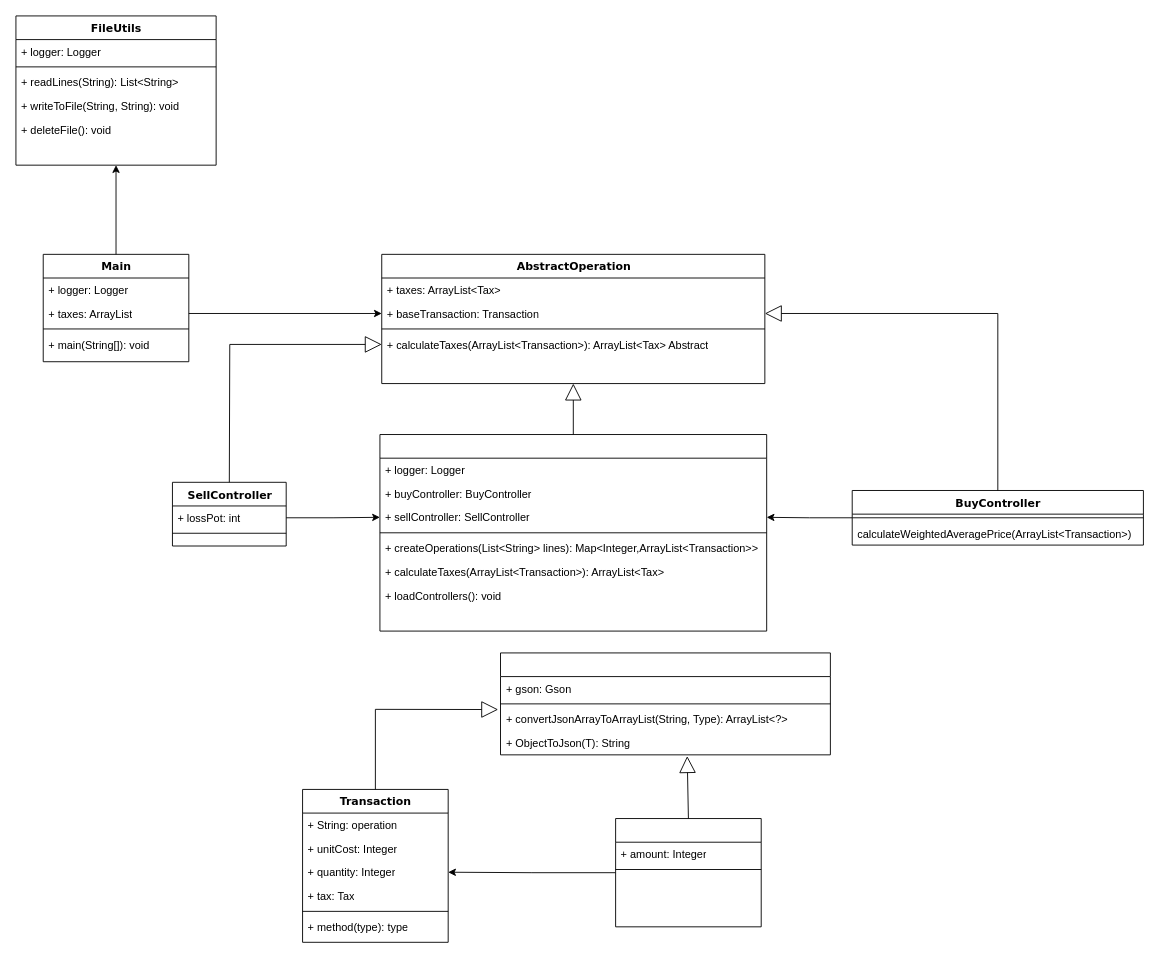
The diagram is 1159 pixels wide and 958 high, and some of its shapes have lost their labels. Each missing label, with the box of its shape:
Json Model: (500, 652, 830, 755)
OperationController: (379, 434, 767, 631)
Tax: (615, 818, 761, 927)
